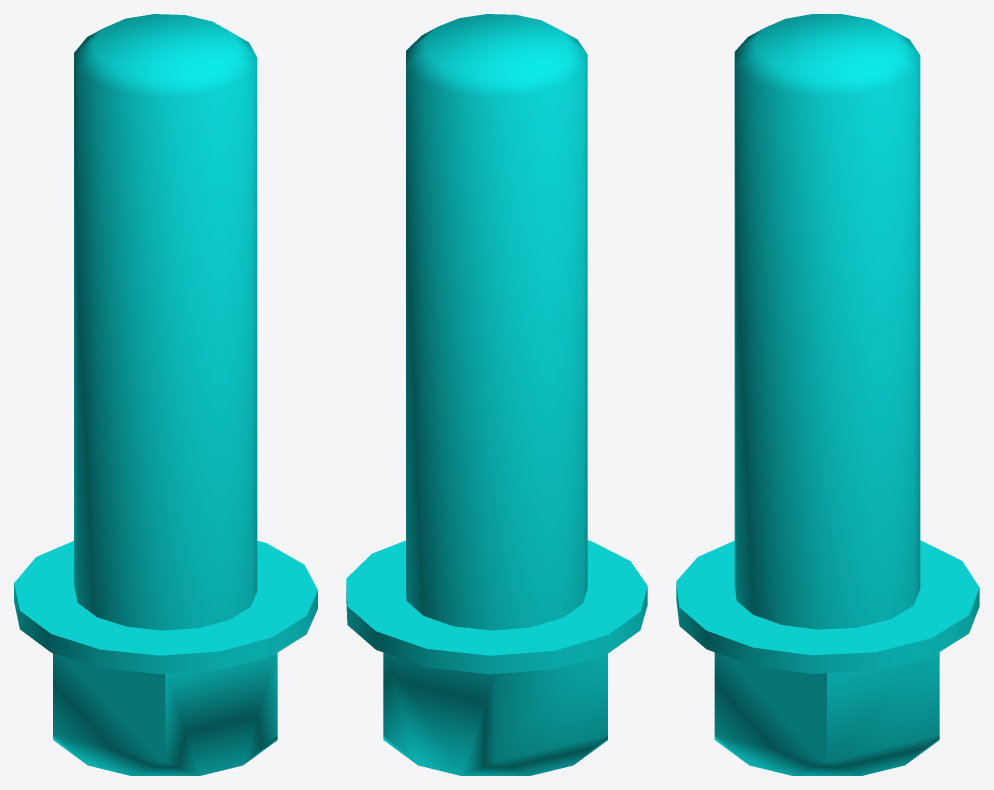
The picture shows the model from 3 angles, left to right: view 1: azimuth 30°, elevation 25°; view 2: azimuth 150°, elevation 25°; view 3: azimuth 270°, elevation 25°; orthographic projection.
Visible parts, largest first — view 1: tr014_01; view 2: tr014_01; view 3: tr014_01.
Part boxes in pixels (left/top/right/bottom): tr014_01: left=14, top=14, right=317, bottom=775; tr014_01: left=346, top=14, right=647, bottom=775; tr014_01: left=676, top=14, right=979, bottom=775.
Bounding box in the file's own units: 2.97 × 7.46 × 2.99.
